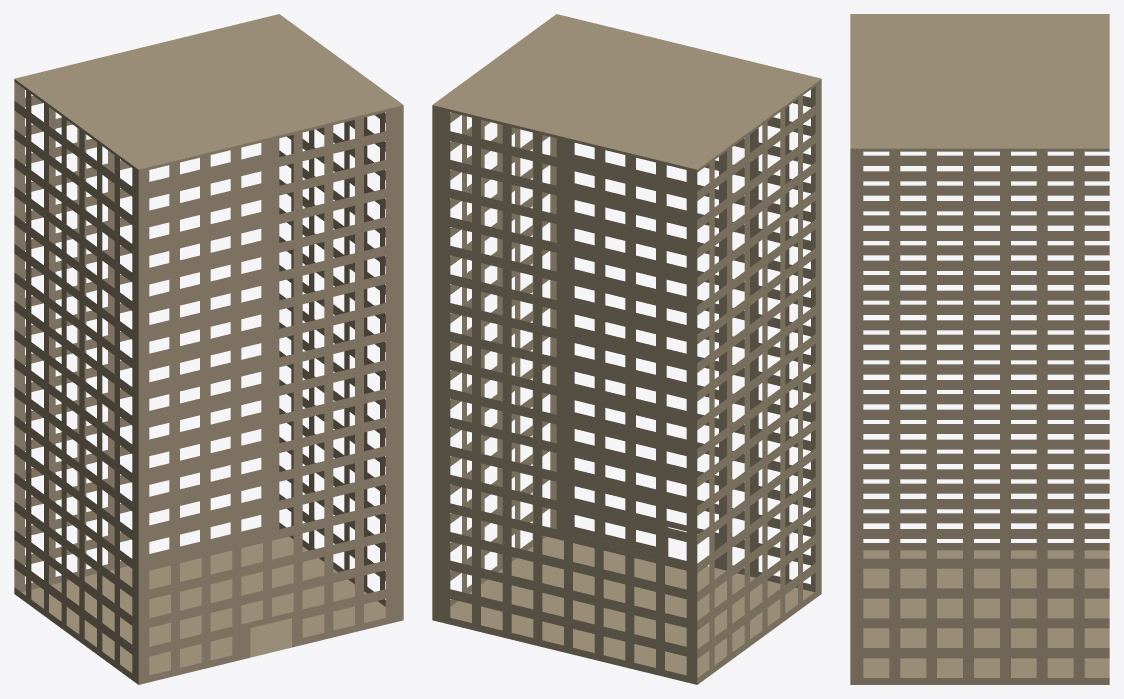
Rendered from wall.dae.
The picture shows the model from 3 angles, left to right: view 1: azimuth 30°, elevation 25°; view 2: azimuth 150°, elevation 25°; view 3: azimuth 270°, elevation 25°; orthographic projection. The views are drawn at different scales.
Size of the model in its own units: 32 by 26 by 59.4.
